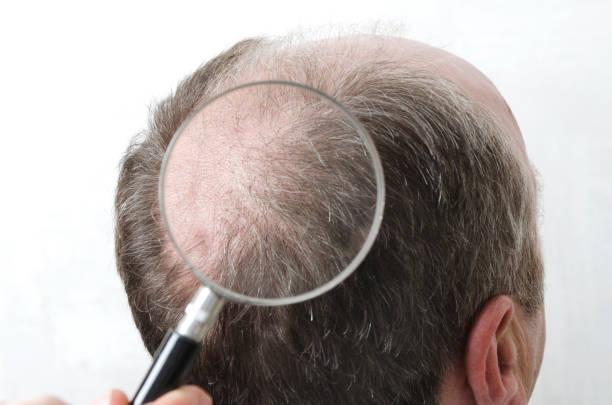low hair density: (170, 148, 283, 257), (263, 79, 317, 136), (336, 65, 376, 133)
